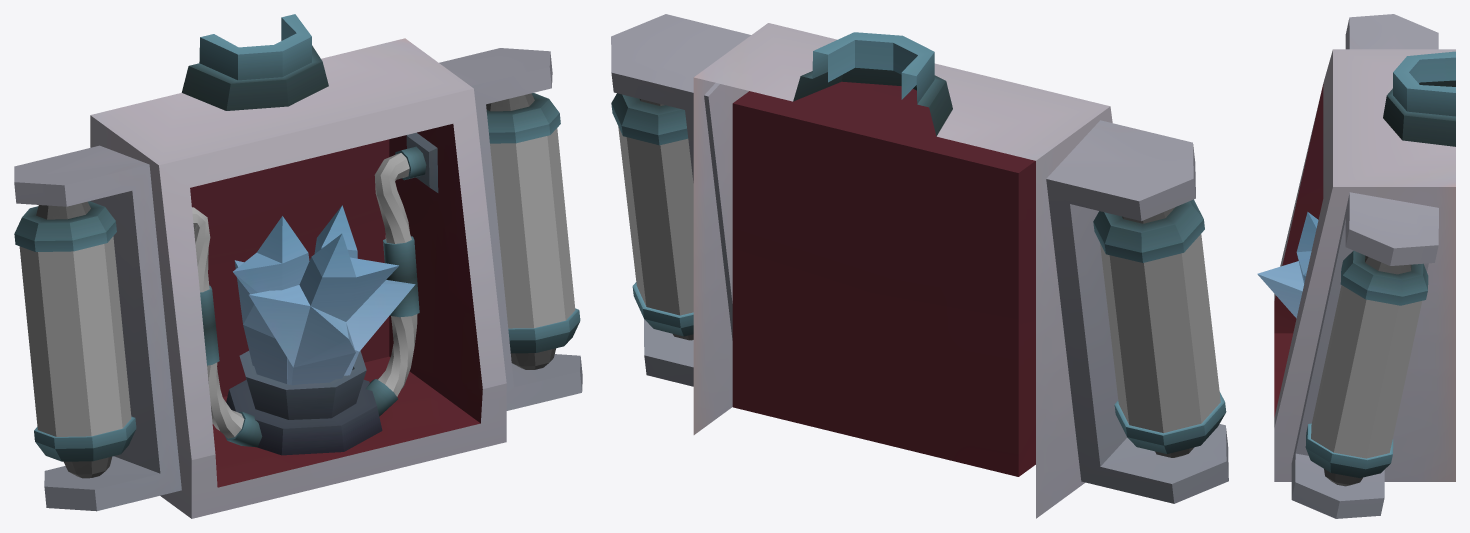
File: receptor de energia.fbx
The picture shows the model from 3 angles, left to right: view 1: azimuth 30°, elevation 25°; view 2: azimuth 150°, elevation 25°; view 3: azimuth 270°, elevation 25°; orthographic projection. The views are drawn at different scales.
Visible parts, largest first — view 1: contenedor, receptor_energia_cable_electrico; view 2: contenedor, receptor_energia_cable_electrico; view 3: contenedor, receptor_energia_cable_electrico.
Part boxes in pixels (x1=…): contenedor: x1=14, y1=14, x2=582, y2=518; receptor_energia_cable_electrico: x1=19, y1=128, x2=575, y2=438; contenedor: x1=611, y1=14, x2=1228, y2=518; receptor_energia_cable_electrico: x1=618, y1=126, x2=1220, y2=433; contenedor: x1=1257, y1=14, x2=1455, y2=518; receptor_energia_cable_electrico: x1=1311, y1=285, x2=1422, y2=458.
Bounding box in the file's own units: 0.5592 × 0.3793 × 0.2006.
2 materials, 1 textured.
